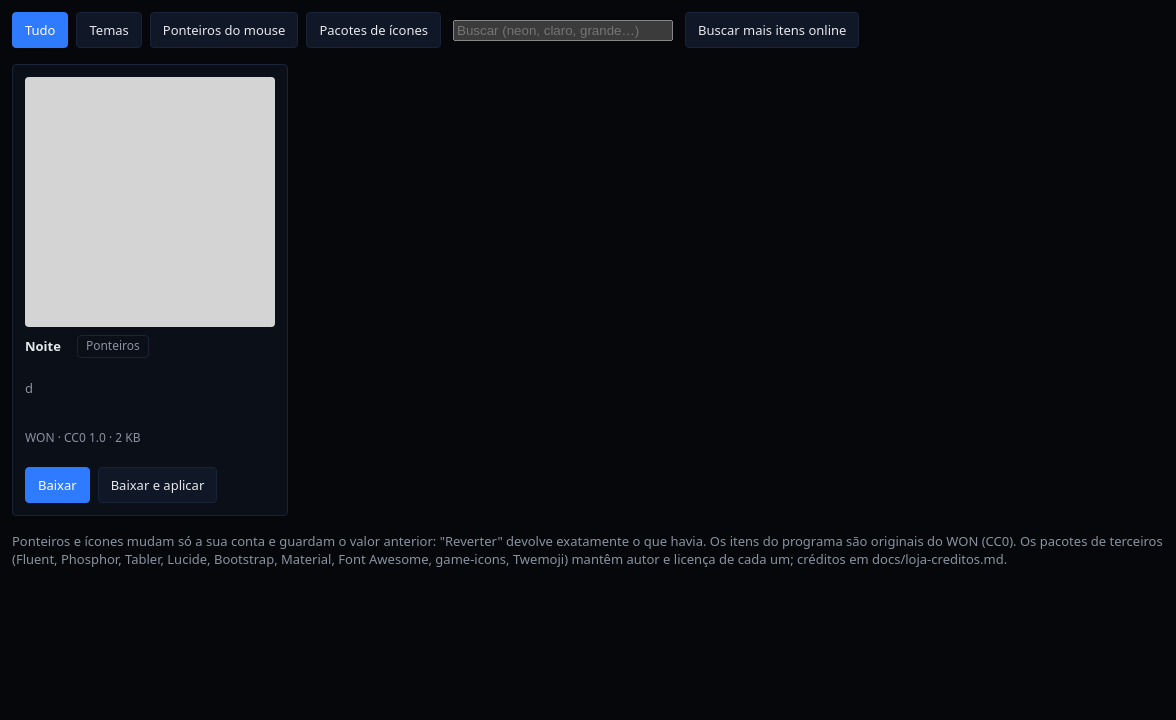
Test case: Loja › baixa, aplica e reverte um ponteiro
Click the button with aria-label "Baixar Noite": [57, 485] box x1=25 y1=467 x2=90 y2=503
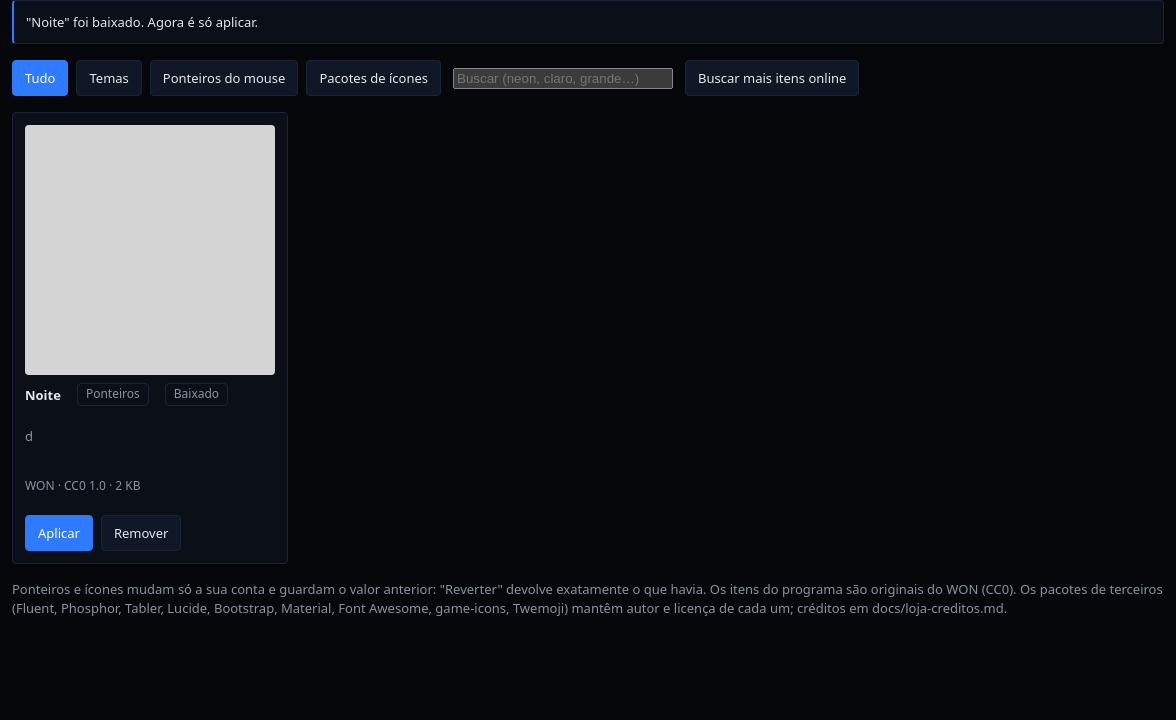
Click the button with aria-label "Aplicar Noite": [59, 533] box x1=25 y1=515 x2=93 y2=551
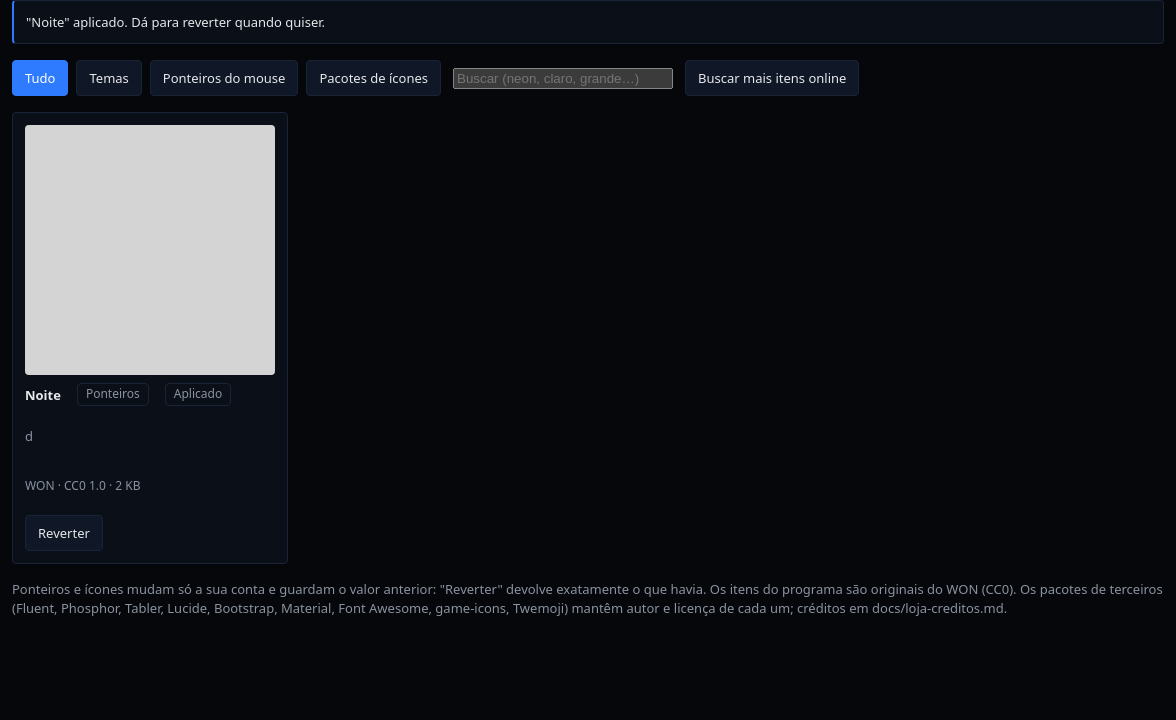
Click the button with aria-label "Reverter Noite": [64, 533] box x1=25 y1=515 x2=103 y2=551
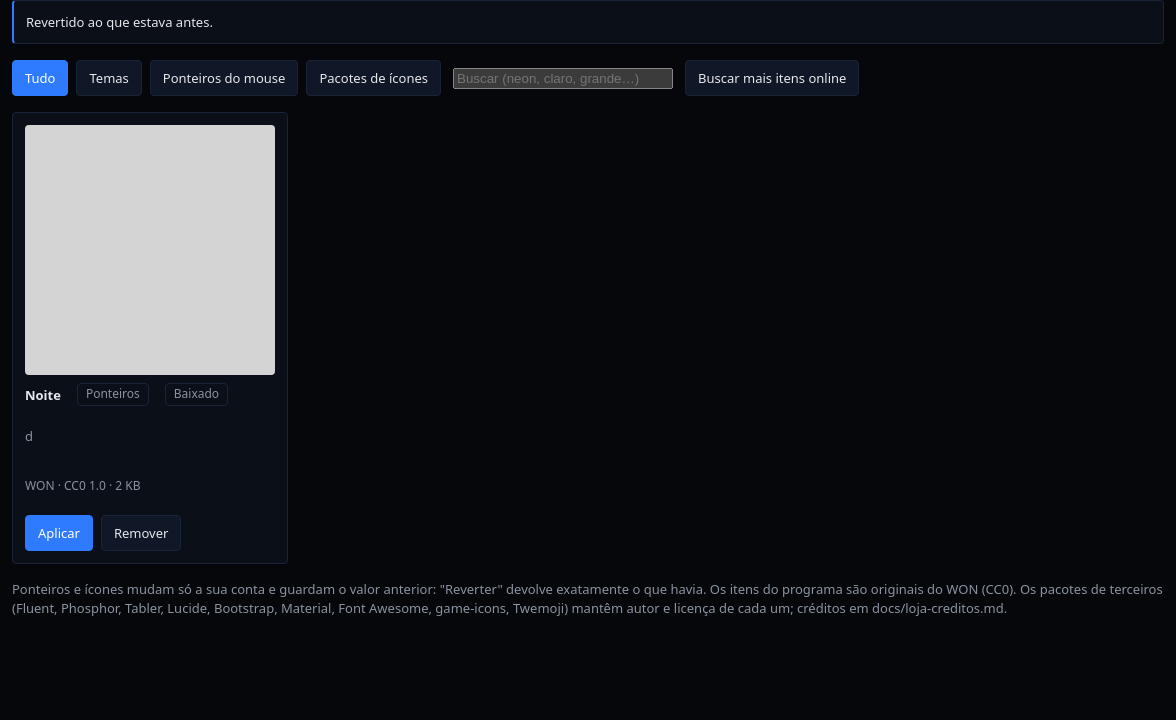
Check: the text "Revertido ao que estava antes." is shown, box x1=12 y1=0 x2=1164 y2=44
